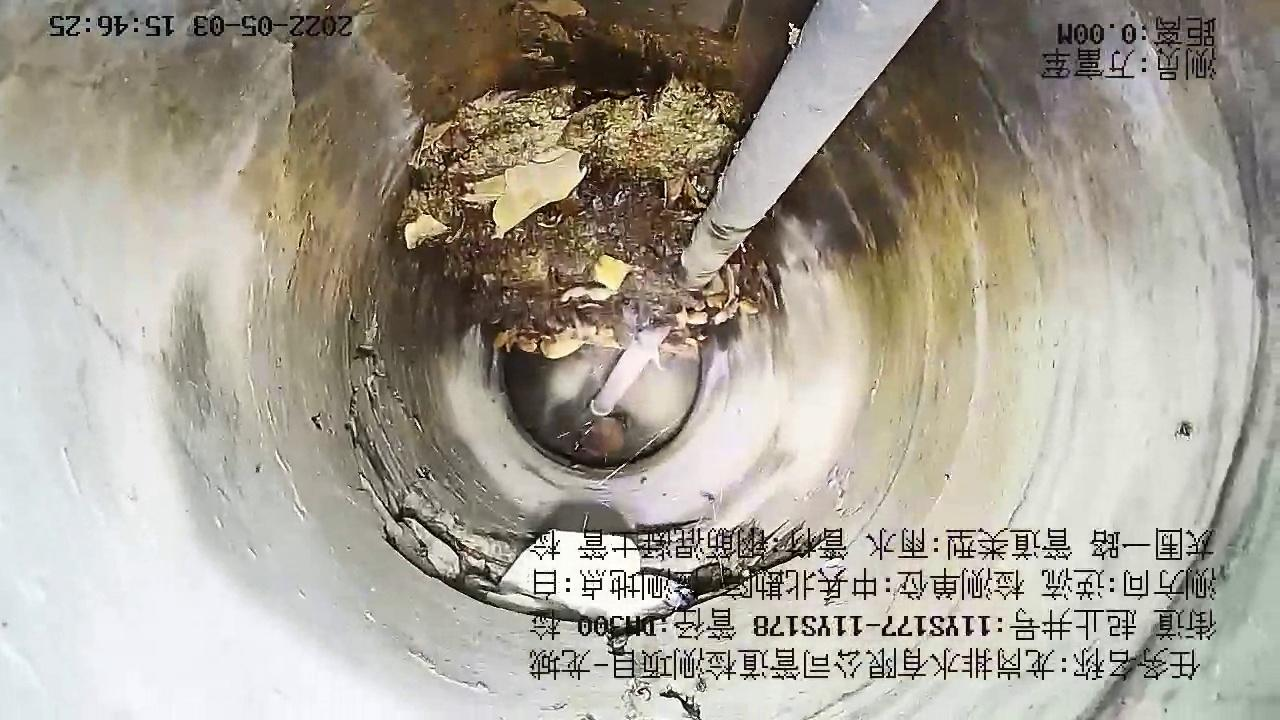CJ: (401, 1, 759, 358)
PL: (347, 325, 843, 627)
YWCR: (682, 1, 938, 291), (590, 307, 673, 417)
